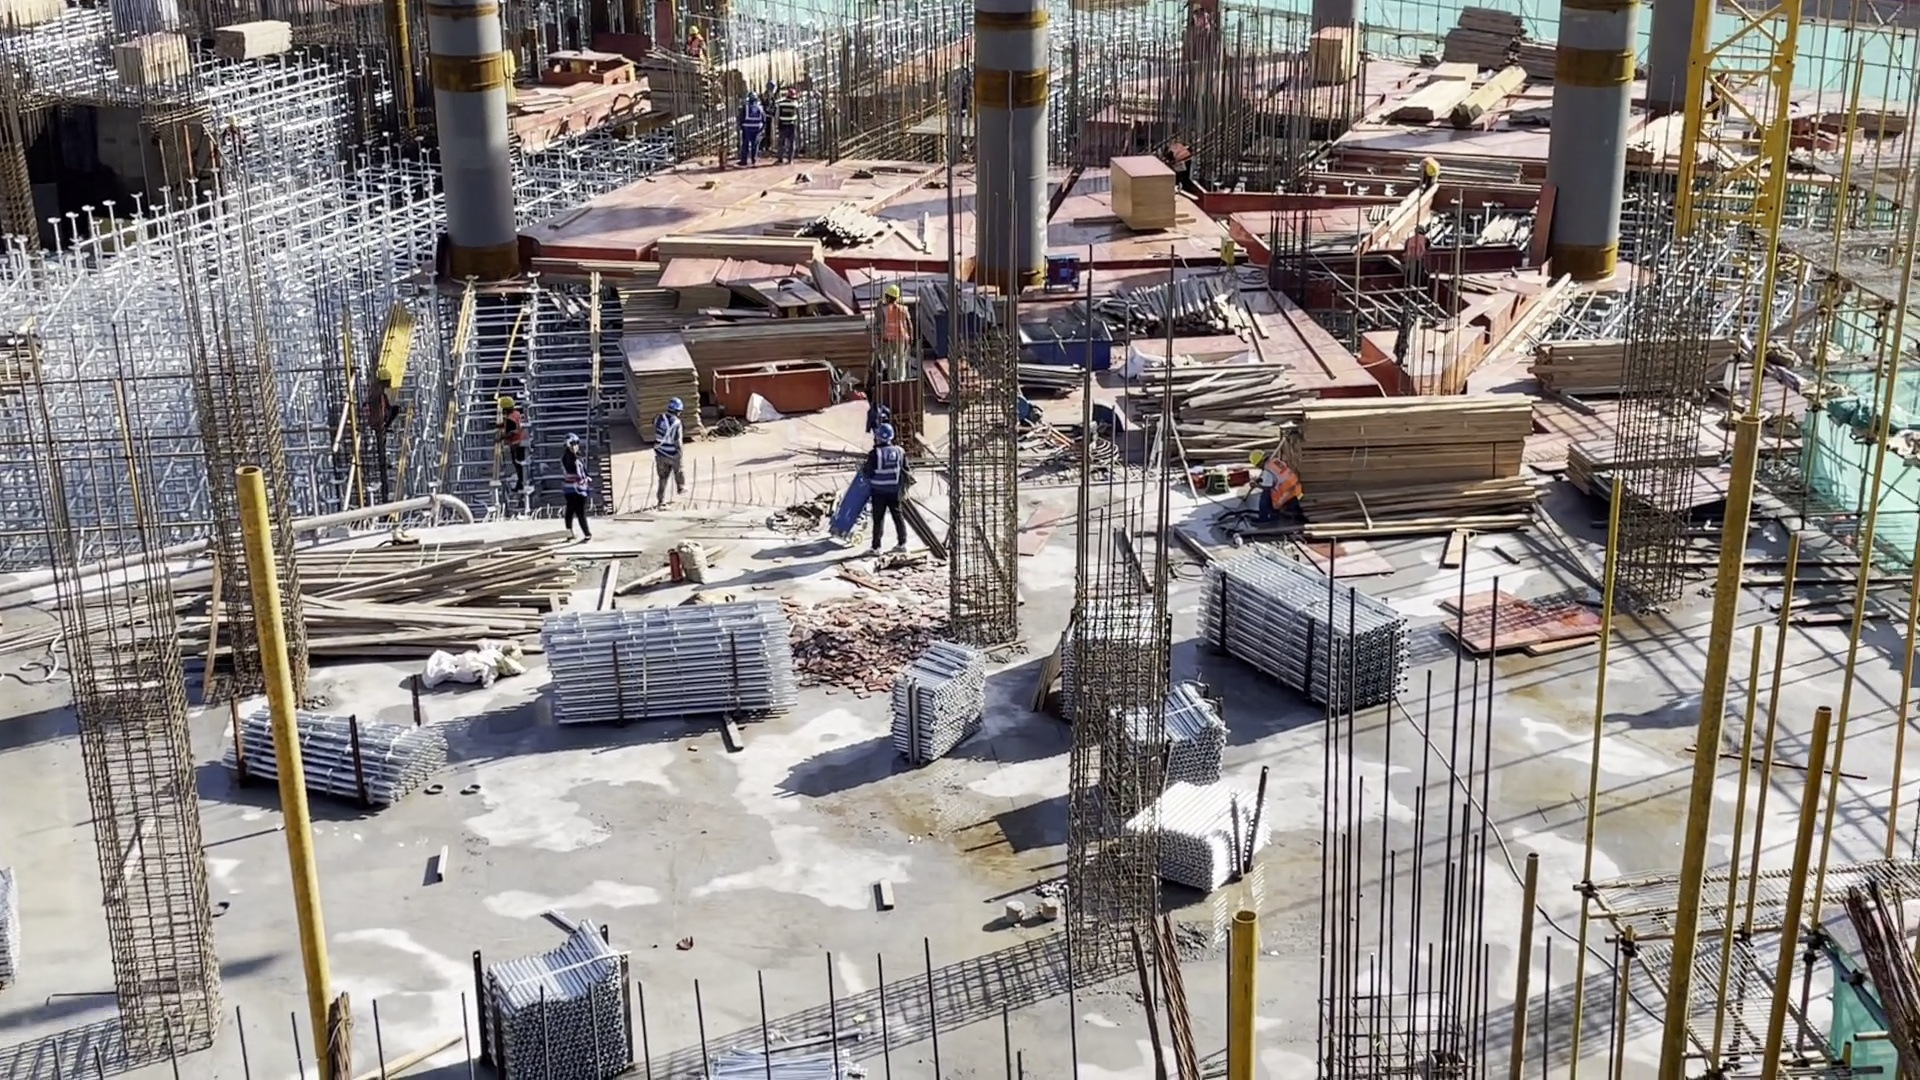board: (656, 259, 856, 319), (1567, 428, 1725, 501), (624, 329, 707, 450), (1104, 156, 1178, 244), (1310, 20, 1359, 95)
helmet: (876, 422, 897, 451), (499, 390, 518, 415), (668, 397, 690, 419), (881, 282, 904, 302), (1250, 448, 1270, 468), (1425, 155, 1441, 180), (564, 433, 580, 451), (783, 86, 801, 102), (688, 25, 704, 39), (746, 92, 759, 104)
person: (868, 422, 906, 557), (1251, 441, 1308, 526), (651, 395, 691, 512), (874, 284, 918, 376), (562, 433, 598, 540), (498, 393, 534, 495), (367, 366, 401, 453), (775, 81, 808, 163), (735, 91, 772, 164), (1403, 223, 1435, 296), (1165, 135, 1194, 187), (681, 22, 711, 69), (1189, 5, 1215, 53), (1417, 146, 1444, 191)
scaffold: (1196, 554, 1376, 724), (540, 613, 799, 726), (222, 700, 464, 813), (479, 923, 631, 1077), (1128, 768, 1276, 910), (1105, 684, 1224, 830), (889, 635, 991, 783)
vest: (1250, 433, 1292, 481), (879, 301, 909, 357), (870, 447, 905, 493), (560, 457, 591, 501), (655, 414, 682, 460), (504, 409, 531, 452), (1165, 140, 1192, 168), (743, 101, 765, 134), (779, 99, 798, 128), (686, 36, 706, 59)
wood: (1283, 390, 1542, 553), (307, 529, 568, 662), (1527, 331, 1755, 401), (682, 317, 872, 382), (210, 12, 296, 67), (656, 231, 831, 254)
